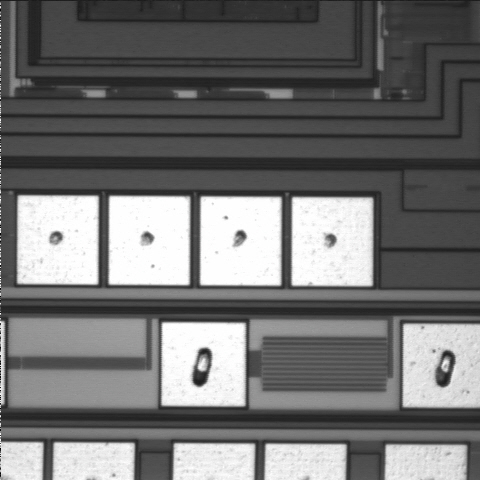pad: (17, 196, 99, 285), (109, 196, 190, 285), (200, 197, 281, 286), (292, 197, 373, 286), (162, 322, 246, 406)
